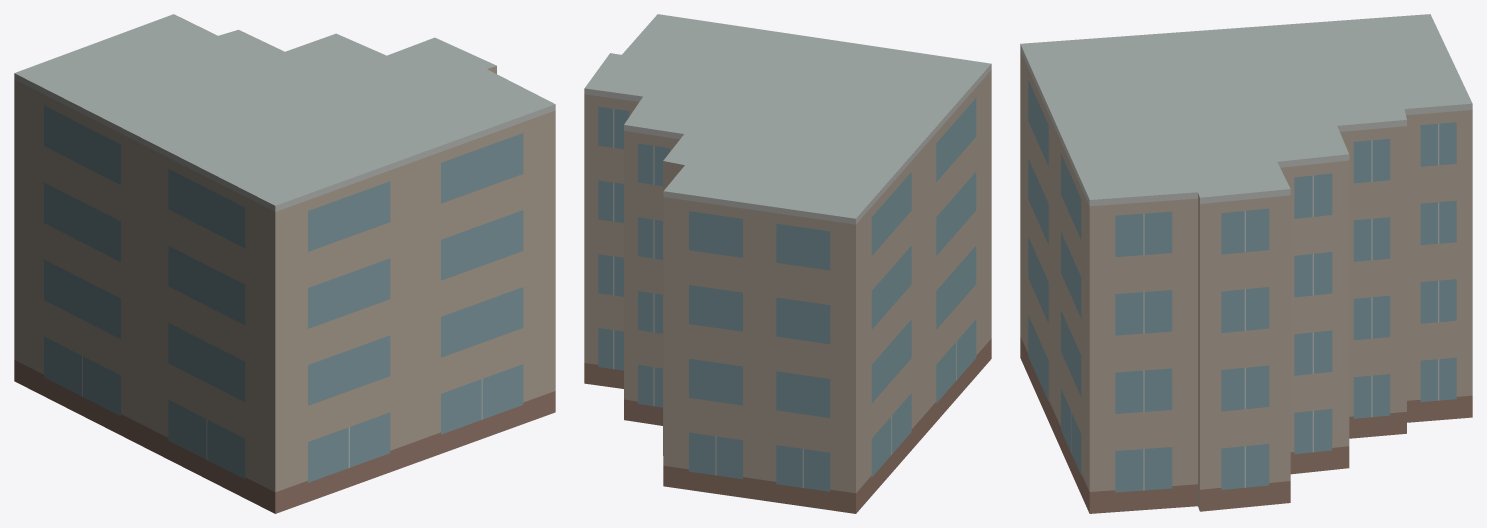
Rendered from survey-upis-33029211.glb.
The picture shows the model from 3 angles, left to right: view 1: azimuth 30°, elevation 25°; view 2: azimuth 150°, elevation 25°; view 3: azimuth 270°, elevation 25°; orthographic projection. The views are drawn at different scales.
Parts seen in each view (by area): view 1: survey-upis-33029211.tmp; view 2: survey-upis-33029211.tmp; view 3: survey-upis-33029211.tmp.
Part boxes in pixels (x1=…): survey-upis-33029211.tmp: x1=14, y1=14, x2=555, y2=513; survey-upis-33029211.tmp: x1=584, y1=14, x2=991, y2=513; survey-upis-33029211.tmp: x1=1020, y1=14, x2=1472, y2=513.
Size of the model in its own units: 15.52 by 12.2 by 15.95.
